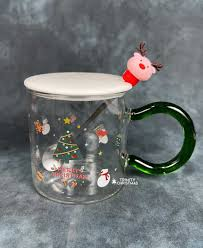mug: (15, 65, 195, 221)
